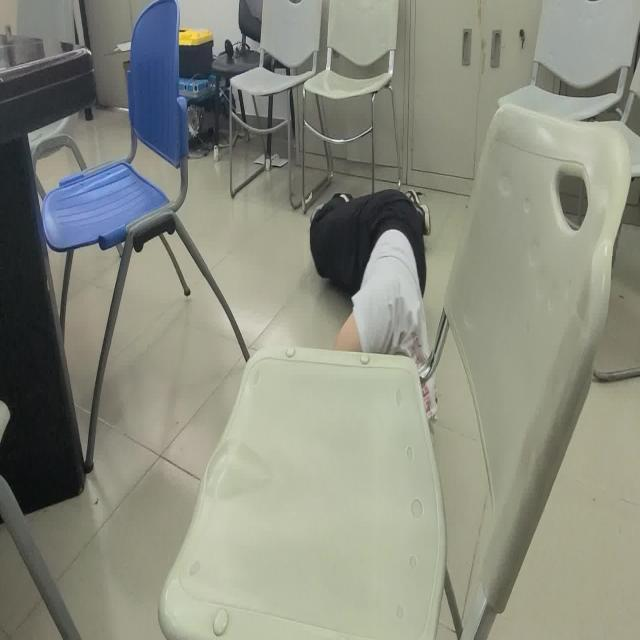Fall-Detected: (309, 184, 435, 362)
